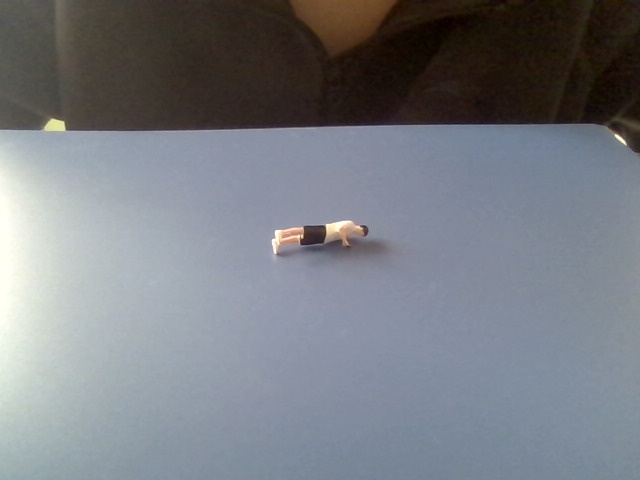fall: (265, 215, 370, 258)
